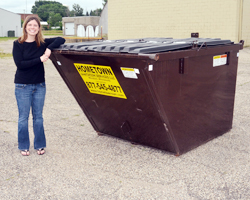Dumpster: (48, 33, 248, 159)
Person: (10, 13, 67, 160)
